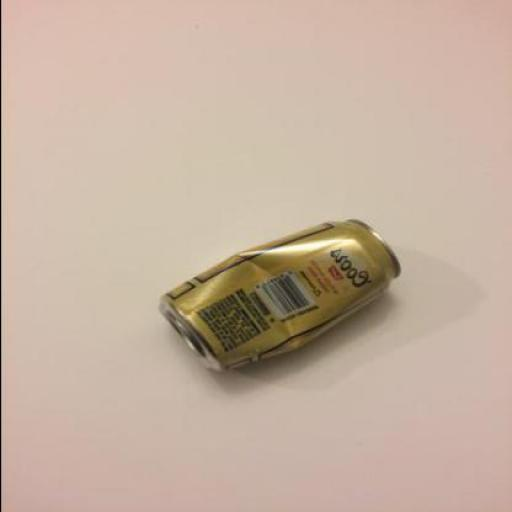metal: (156, 219, 399, 371)
